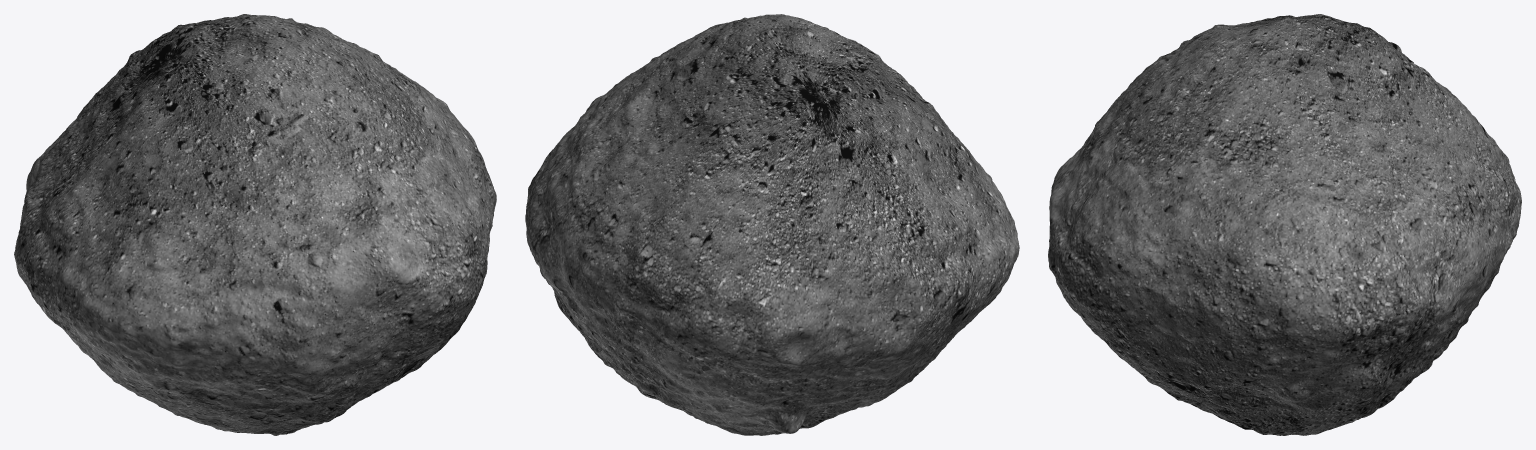
File: astroids.glb
3 views of the same model, side by side, from view 1: azimuth 30°, elevation 25°; view 2: azimuth 150°, elevation 25°; view 3: azimuth 270°, elevation 25° (orthographic).
Parts seen in each view (by area): view 1: Bennu_v20_200k_2; view 2: Bennu_v20_200k_2; view 3: Bennu_v20_200k_2.
Part boxes in pixels (x1,y1,x2,y2): Bennu_v20_200k_2: (14,14,496,435); Bennu_v20_200k_2: (525,14,1019,435); Bennu_v20_200k_2: (1048,14,1521,435).
Bounding box in the file's own units: 0.5629 × 0.4978 × 0.5355.
Materials: 1 (1 with a texture image).
